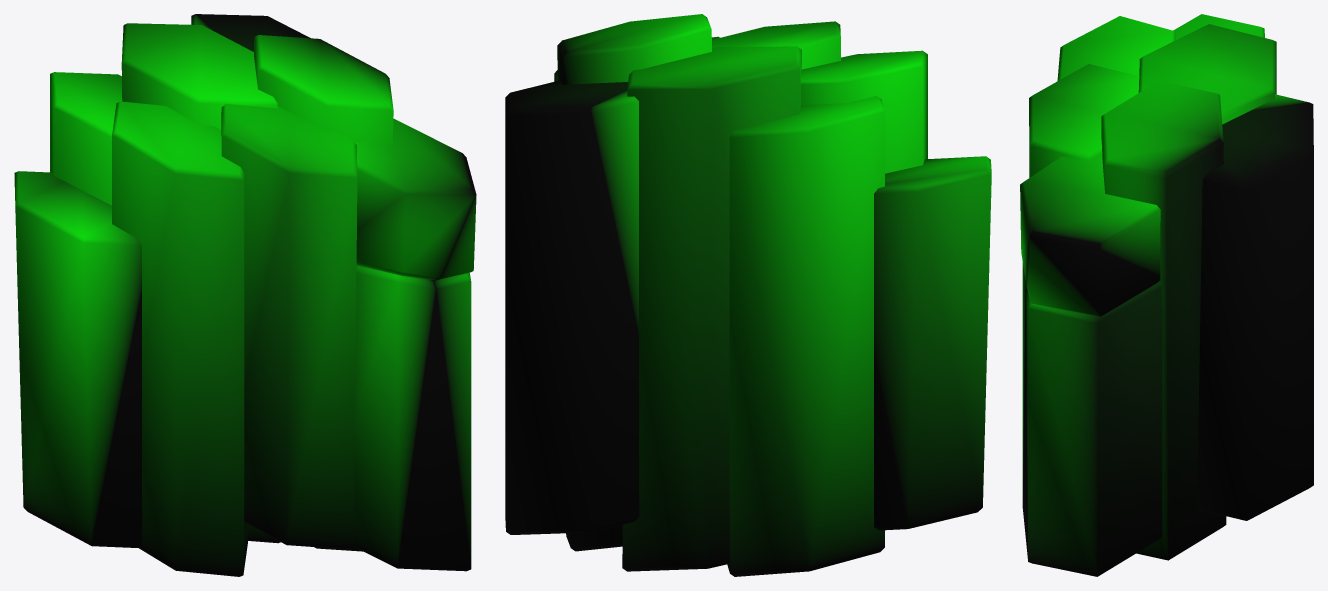
The model's file is SM_RockHexic_RockSlanted07.fbx.
3 views of the same model, side by side, from view 1: azimuth 30°, elevation 25°; view 2: azimuth 150°, elevation 25°; view 3: azimuth 270°, elevation 25° (orthographic). The views are drawn at different scales.
Parts seen in each view (by area): view 1: SM_RockHexic_RockSlanted07; view 2: SM_RockHexic_RockSlanted07; view 3: SM_RockHexic_RockSlanted07.
Part boxes in pixels (box(x1,y1,x2,y2)): SM_RockHexic_RockSlanted07: box(14, 14, 476, 576); SM_RockHexic_RockSlanted07: box(505, 14, 991, 576); SM_RockHexic_RockSlanted07: box(1020, 14, 1313, 576).
Size of the model in its own units: 1317 by 902 by 1491.
